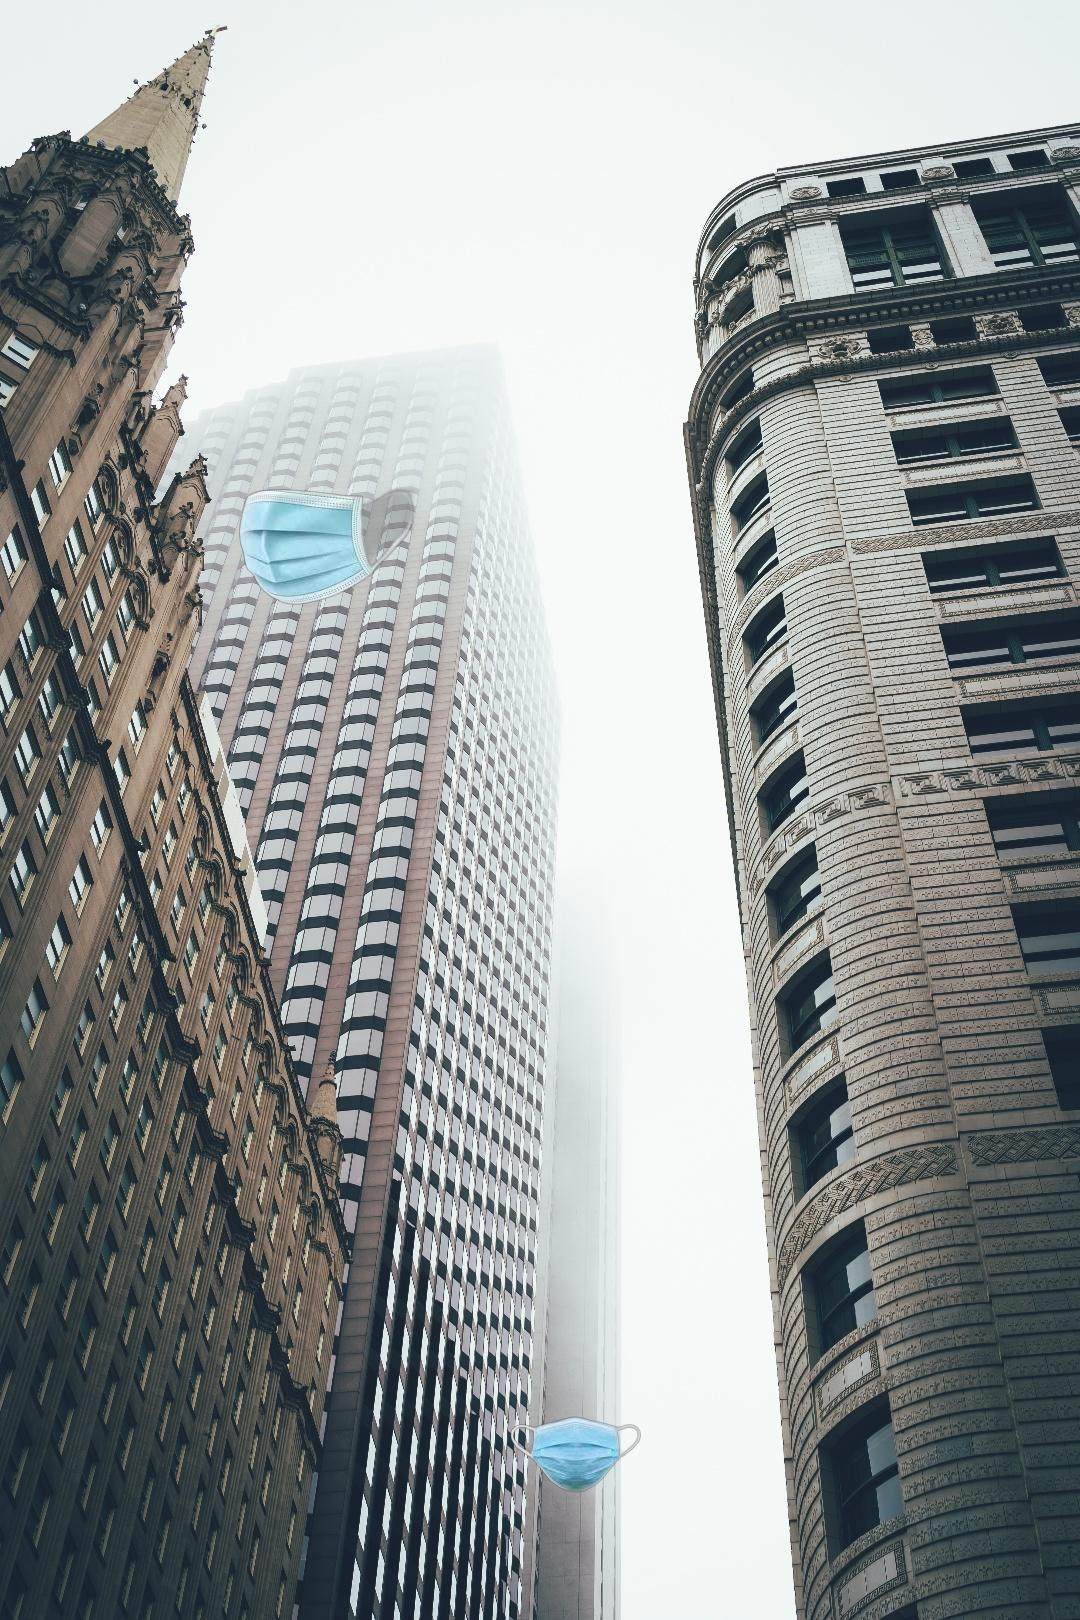trash: (236, 485, 419, 607), (507, 1414, 642, 1495)
